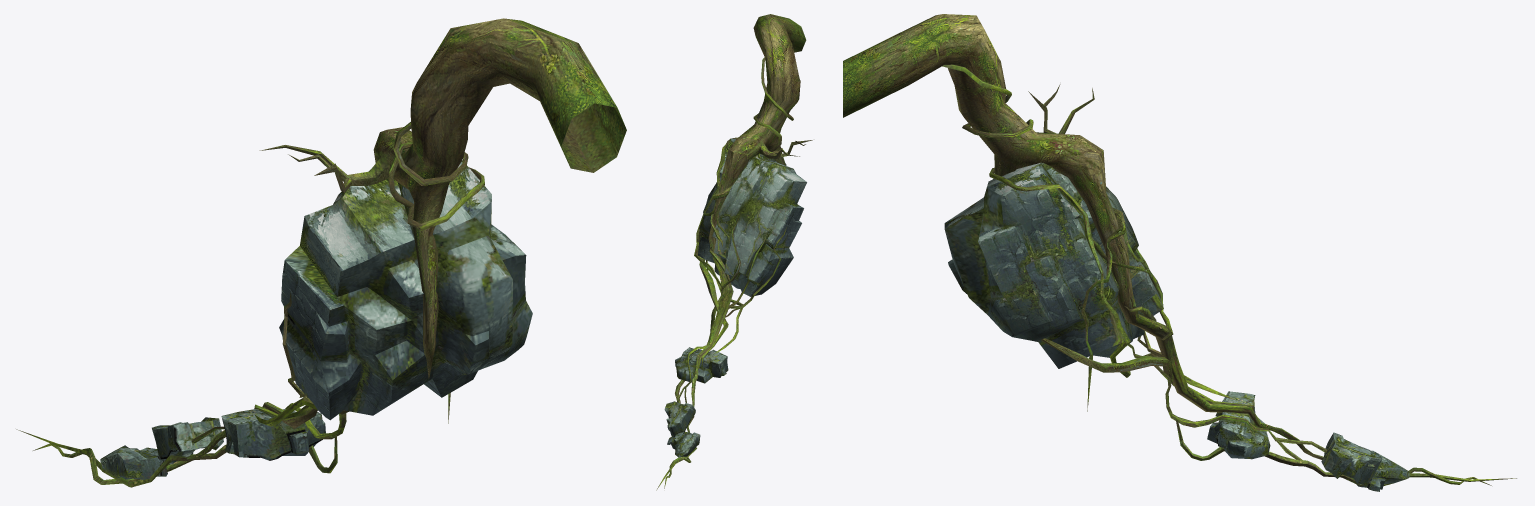
Rendered from 4007_Item_shan_2.FBX.
3 views of the same model, side by side, from view 1: azimuth 30°, elevation 25°; view 2: azimuth 150°, elevation 25°; view 3: azimuth 270°, elevation 25° (orthographic). The views are drawn at different scales.
Visible parts, largest first — view 1: 4007_Item_shan_2; view 2: 4007_Item_shan_2; view 3: 4007_Item_shan_2.
Boxes of the visible parts, x1,y1,x2,y2 form: 4007_Item_shan_2: [16, 18, 626, 487]; 4007_Item_shan_2: [656, 14, 812, 490]; 4007_Item_shan_2: [843, 14, 1516, 491].
Bounding box in the file's own units: 105 × 291 × 343.
